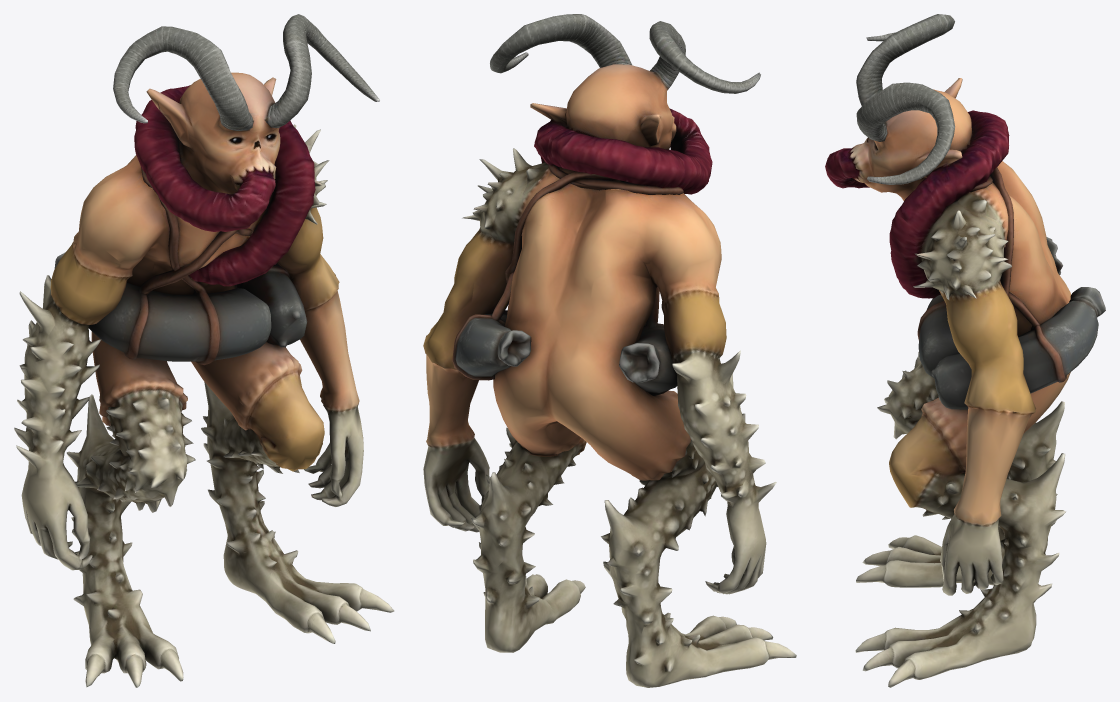
The model's file is MZ4250 - Mickey the Flesh Golem.glb.
The picture shows the model from 3 angles, left to right: view 1: azimuth 30°, elevation 25°; view 2: azimuth 150°, elevation 25°; view 3: azimuth 270°, elevation 25°; orthographic projection. The views are drawn at different scales.
Visible parts, largest first — view 1: body_low.001, thing_low.001; view 2: body_low.001, thing_low.001; view 3: body_low.001, thing_low.001.
Part boxes in pixels (x1=…): body_low.001: x1=14, y1=14, x2=394, y2=687; thing_low.001: x1=54, y1=167, x2=307, y2=365; body_low.001: x1=423, y1=14, x2=796, y2=687; thing_low.001: x1=452, y1=164, x2=683, y2=395; body_low.001: x1=825, y1=14, x2=1071, y2=687; thing_low.001: x1=917, y1=167, x2=1105, y2=409.
Bounding box in the file's own units: 3.97 × 6.82 × 2.98.
1 material, 1 textured.
